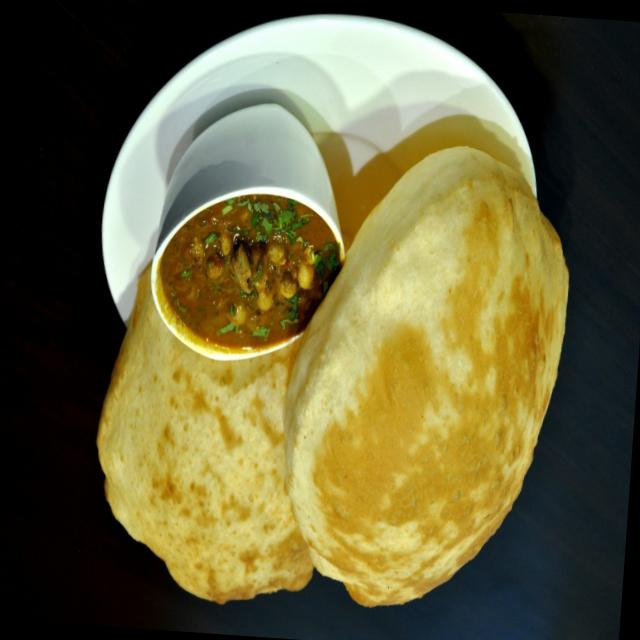Bhatura: (273, 122, 580, 611), (84, 262, 336, 610)
